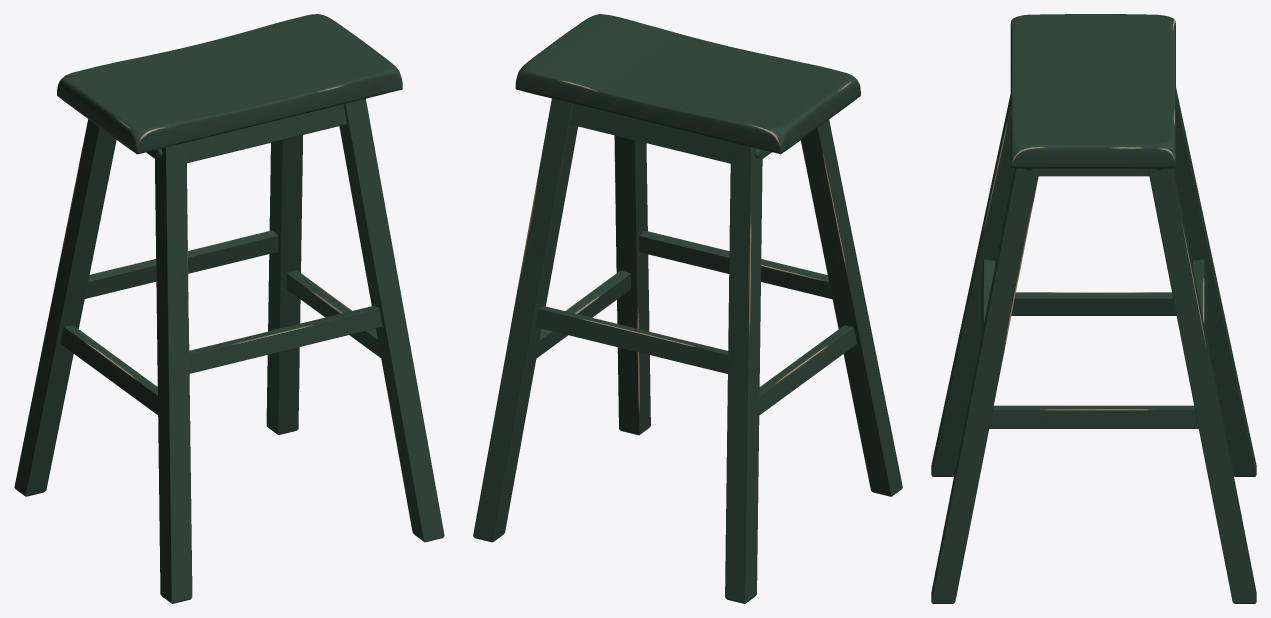
The model's file is abo-B07B78M4DN.glb.
3 views of the same model, side by side, from view 1: azimuth 30°, elevation 25°; view 2: azimuth 150°, elevation 25°; view 3: azimuth 270°, elevation 25° (orthographic). The views are drawn at different scales.
Size of the model in its own units: 0.476 by 0.737 by 0.476.
1 material, 1 textured.
